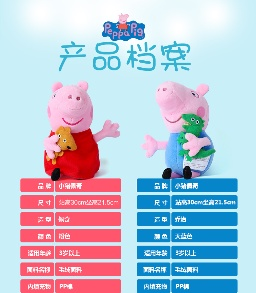Peppa: (44, 80, 121, 179)
